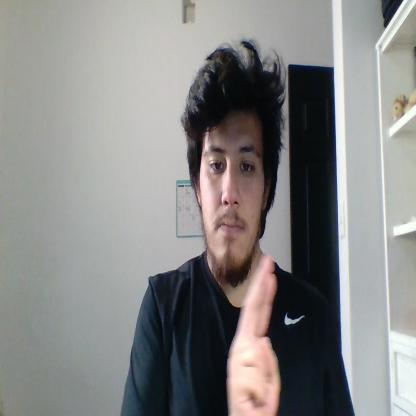R: (226, 256, 281, 415)
